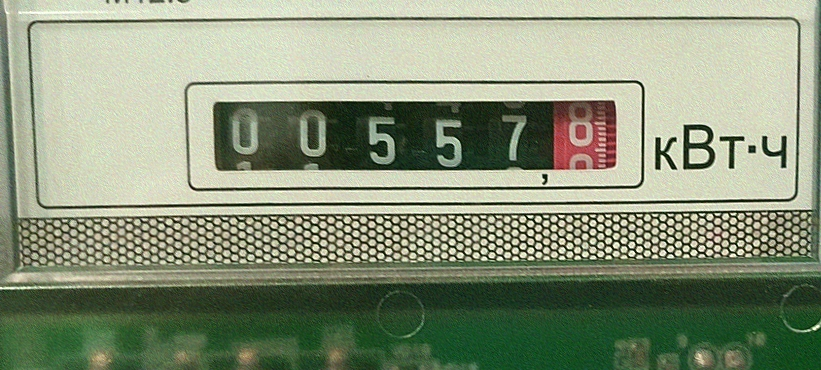0: (224, 103, 260, 160), (292, 107, 327, 160)
5: (427, 112, 466, 171), (361, 111, 397, 169)
7: (492, 110, 527, 165)
8: (563, 100, 593, 151)
screen: (177, 62, 649, 207)
